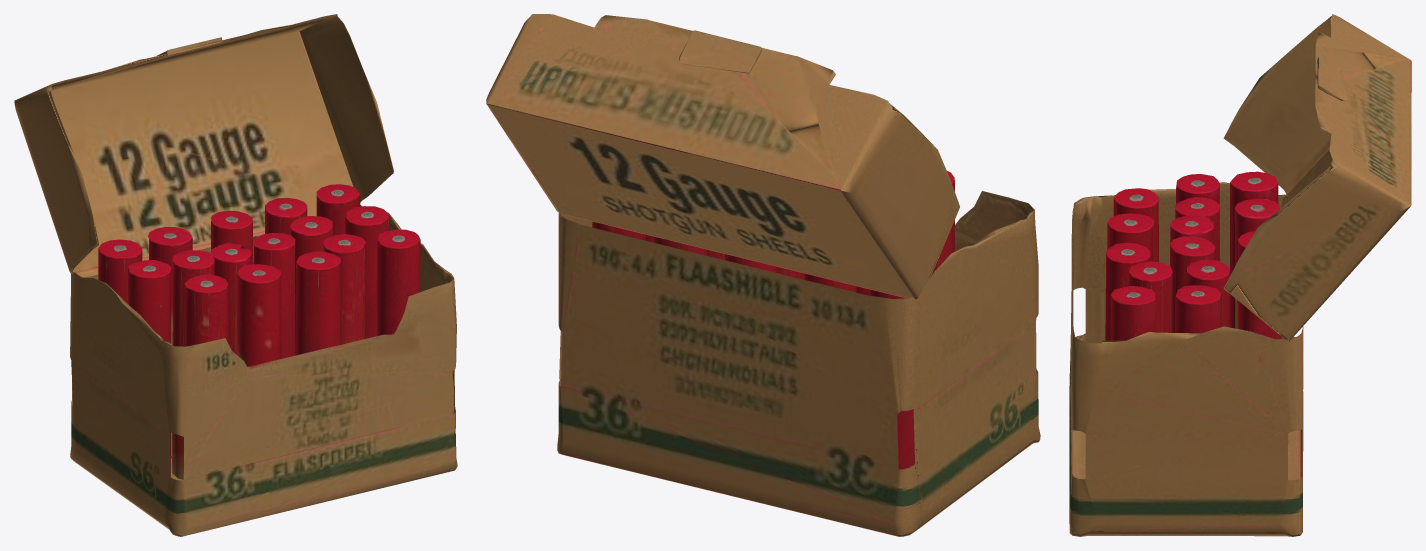
The model's file is ammo-12ga-t25.glb.
3 renders of one model, left to right at view 1: azimuth 30°, elevation 25°; view 2: azimuth 150°, elevation 25°; view 3: azimuth 270°, elevation 25°, orthographic. The views are drawn at different scales.
Parts seen in each view (by area): view 1: ammo-12ga-t25; view 2: ammo-12ga-t25; view 3: ammo-12ga-t25.
Boxes of the visible parts, bbox=[...] form: ammo-12ga-t25: bbox=[14, 14, 457, 536]; ammo-12ga-t25: bbox=[486, 14, 1040, 536]; ammo-12ga-t25: bbox=[1069, 14, 1411, 536].
Bounding box in the file's own units: 0.13 × 0.1566 × 0.123.
1 material, 1 textured.
